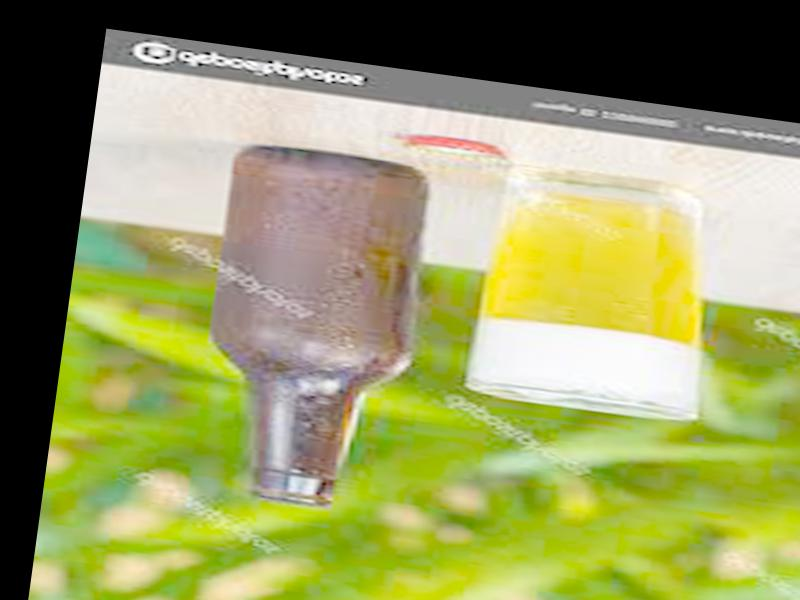Beer: (198, 138, 433, 513)
